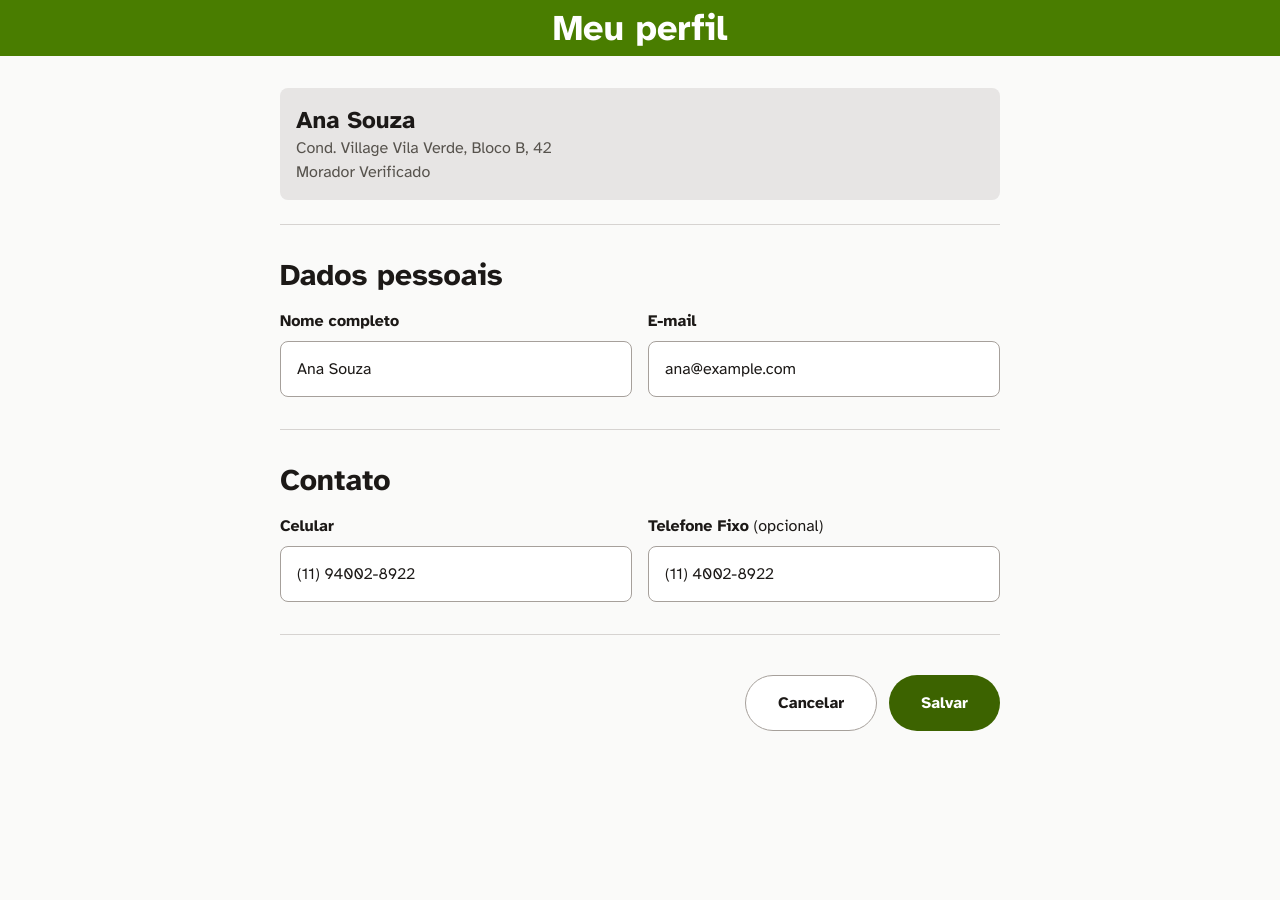
Scenario: MyProfile › hides the saved message when the next save fails
This screenshot has width=1280, height=900.
Click the button "Salvar": (945, 703) [889, 675, 1000, 731]
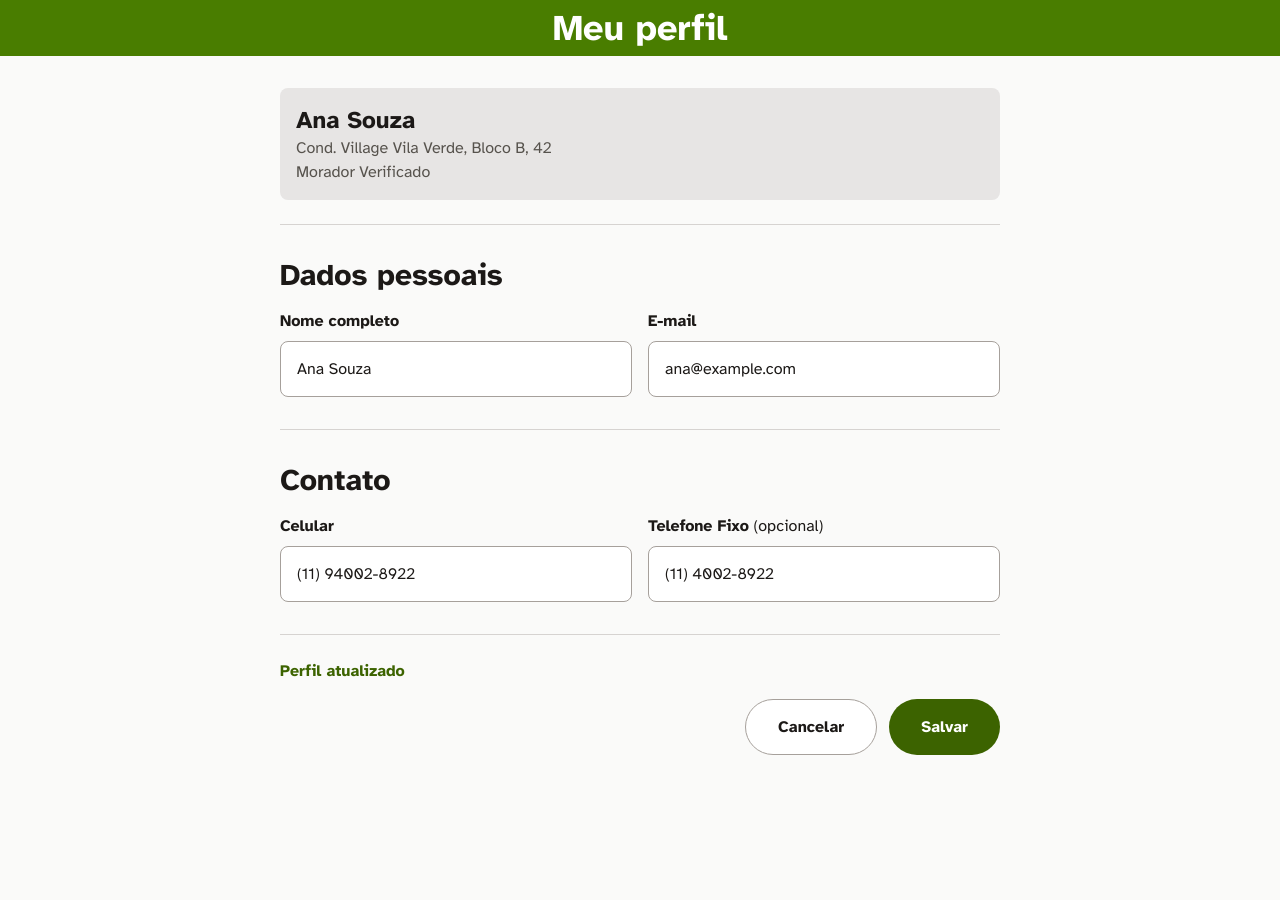
Expected: the text "Perfil atualizado" is shown, [280, 661, 405, 681]
Click the button "Salvar": (945, 727) [889, 699, 1000, 755]
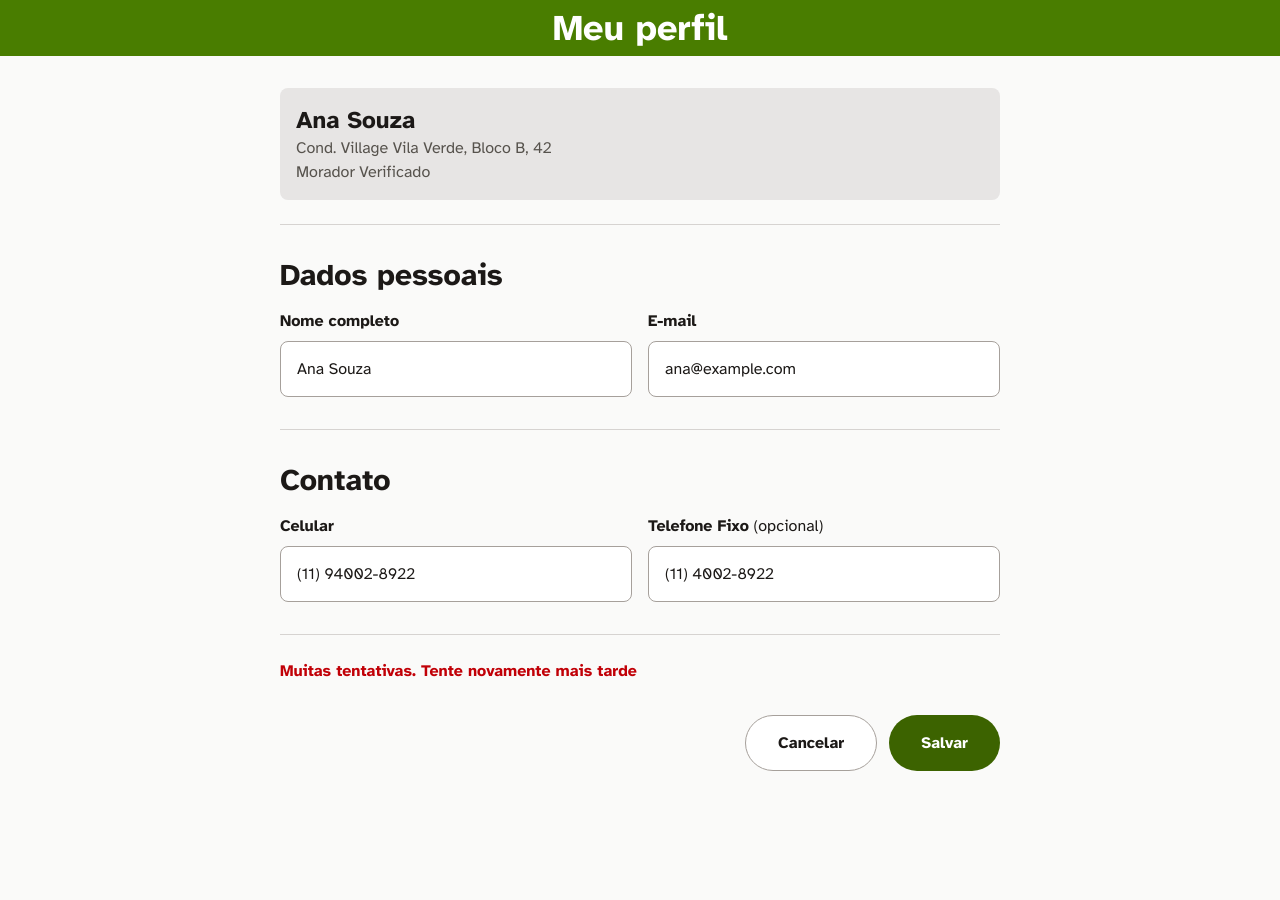
Expected: the message reads "Muitas tentativas. Tente novamente mais tarde", [280, 661, 637, 681]
Expected: the text "Perfil atualizado" is gone
